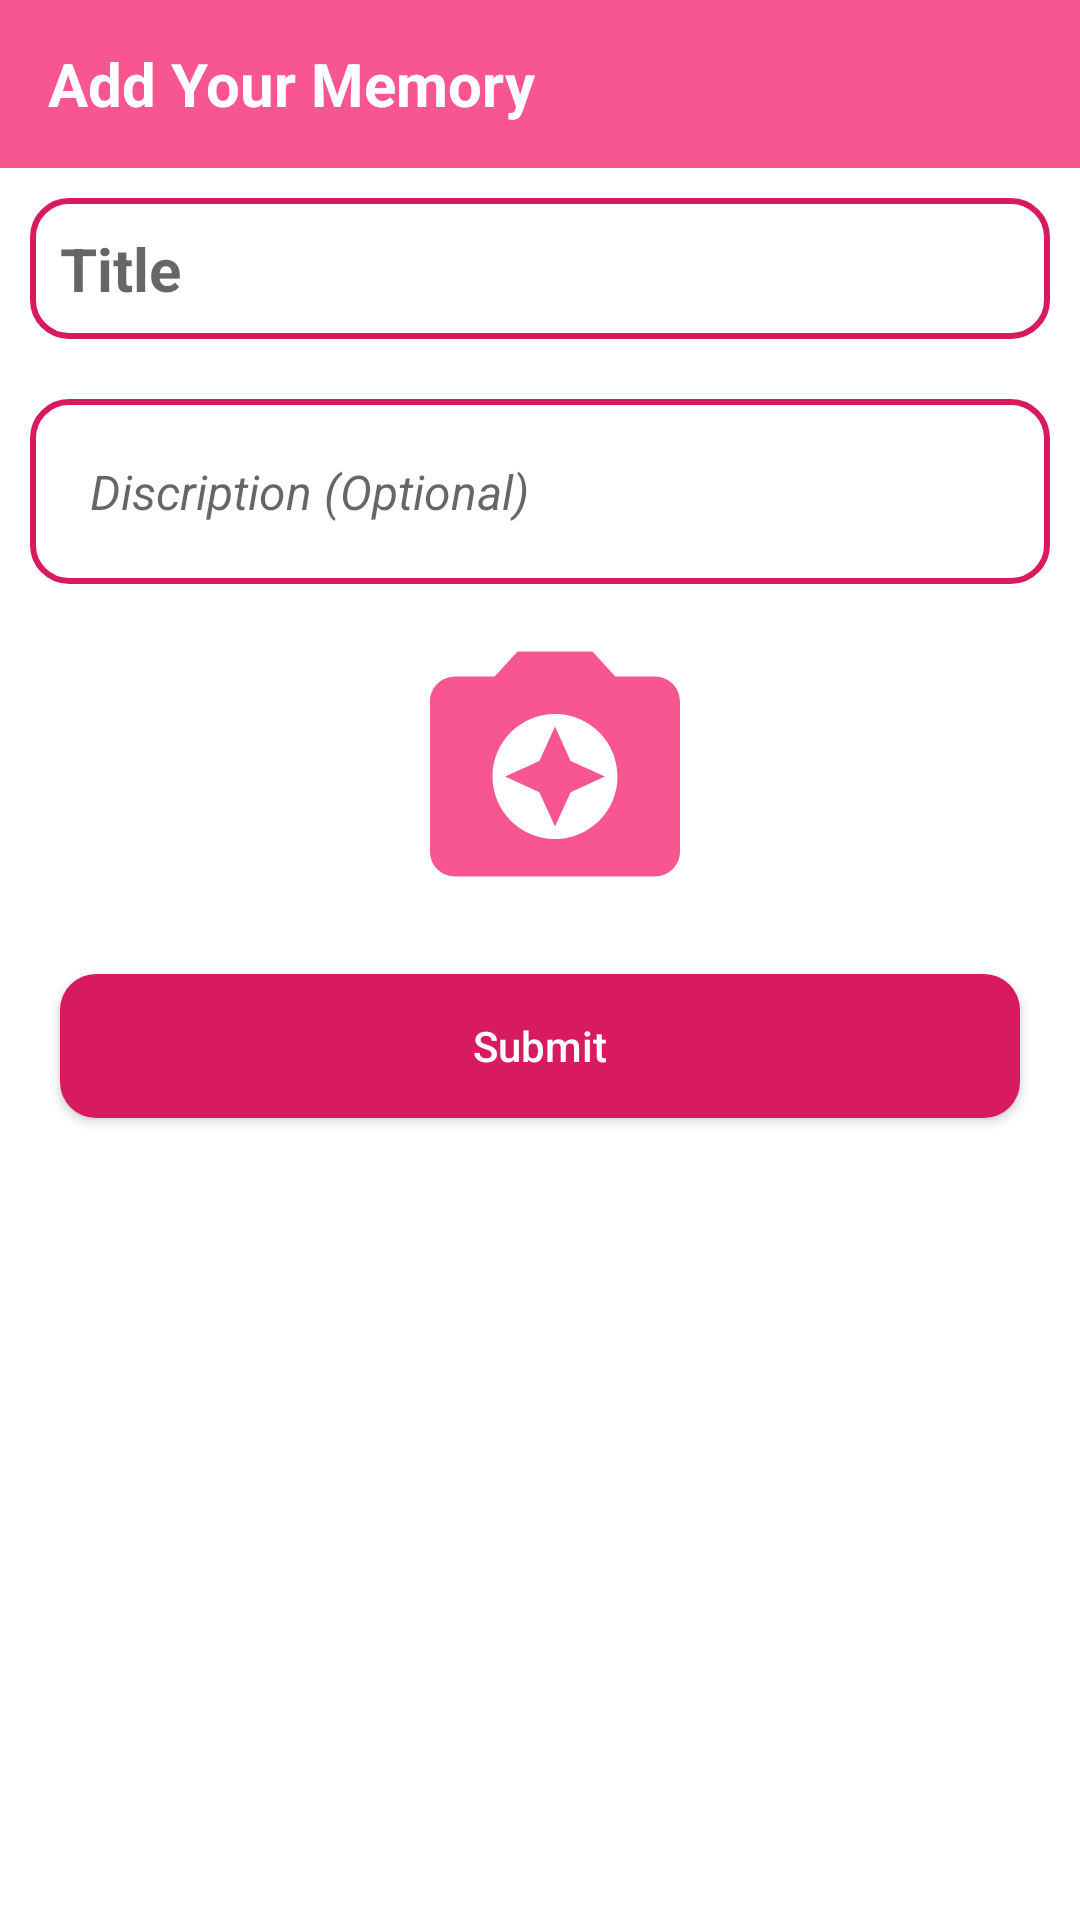

Screen size 1080*1920. Icon name, then its box in pixels as [x1,y1,x2,y2]:
camerapink: [430,651,680,877]
